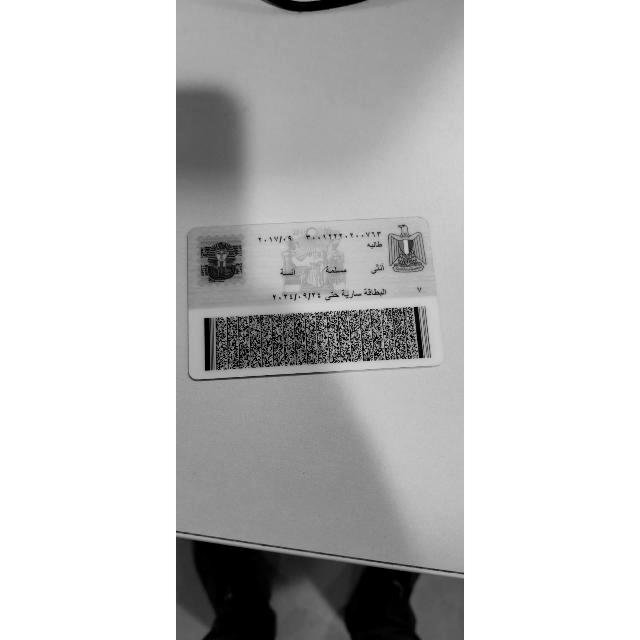id_card: (188, 218, 442, 379)
